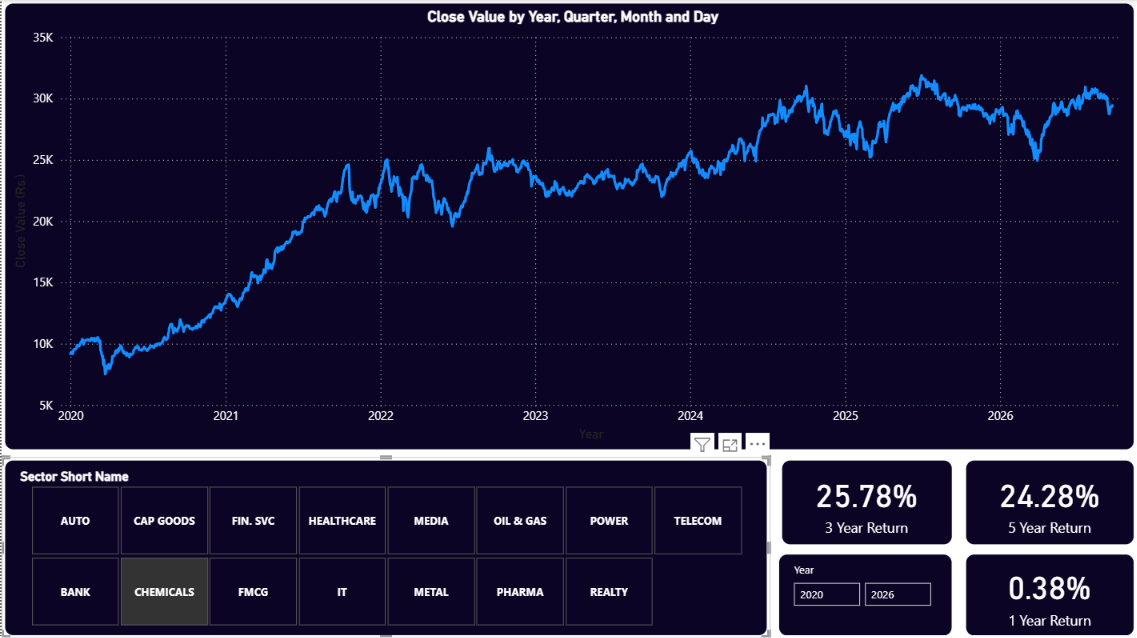

Layout of this report page (visuals, bound fields, positions):
{"tool":"powerbi","page":{"name":"Page 2","canvas":[1280,720],"ordinal":1},"visuals":[{"type":"lineChart","title":" Close Value by Year, Quarter, Month and Day","fields":{"Category":["Date Table.Date.Variation.Date Hierarchy.Year","Date Table.Date.Variation.Date Hierarchy.Quarter","Date Table.Date.Variation.Date Hierarchy.Month","Date Table.Date.Variation.Date Hierarchy.Day"],"Y":["Max(Combine Data.Close)"]},"box":[0,0,1280.2,510.5],"z":0},{"type":"slicer","fields":{"Values":["Combine Data.Sector Short Name"]},"box":[0,515.1,866.3,204.7],"z":1000},{"type":"slicer","fields":{"Values":["Date Table.Year"]},"box":[872.1,620.9,202.3,98.8],"z":1001},{"type":"card","fields":{"Values":["Combine Data.3 Year Return"]},"box":[875.6,514.5,198.8,102.3],"z":1002},{"type":"card","fields":{"Values":["Combine Data.5 Year Return"]},"box":[1083.7,514.5,196.5,102.3],"z":1003},{"type":"card","fields":{"Values":["Combine Data.1 Year Return"]},"box":[1083.7,620.9,196.5,98.8],"z":1004}]}

Visuals, with their boxes in screenshot pixels (x1, y1, x2, y2), scaled from the page's 1280x720 canvas onto the 1137x638 screenshot:
" Close Value by Year, Quarter, Month and Day" lineChart: 0,0,1136,452
slicer - Combine Data.Sector Short Name: 0,456,770,637
slicer - Date Table.Year: 775,550,954,637
card - Combine Data.3 Year Return: 778,456,954,547
card - Combine Data.5 Year Return: 963,456,1136,547
card - Combine Data.1 Year Return: 963,550,1136,637
